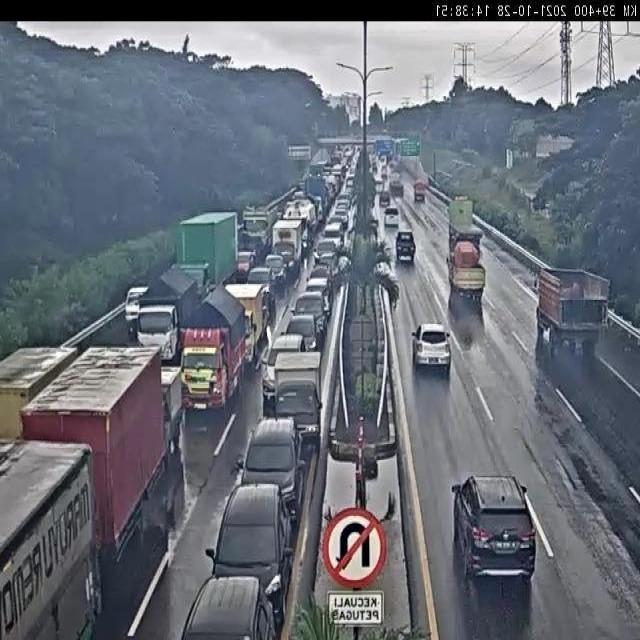Car: (448, 475, 535, 587), (205, 481, 298, 578), (176, 578, 280, 640), (235, 423, 310, 488), (410, 324, 454, 375), (394, 231, 416, 264)
Truck: (21, 345, 164, 547), (0, 438, 100, 640), (179, 290, 246, 418), (534, 266, 613, 351), (133, 267, 200, 362), (176, 211, 240, 282), (276, 351, 324, 444), (260, 335, 306, 410), (226, 282, 263, 354), (448, 238, 488, 302), (447, 197, 485, 247), (272, 217, 306, 268), (283, 313, 317, 350), (413, 173, 428, 202)
Van: (383, 206, 400, 230)
